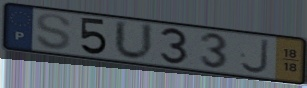3: (157, 26, 191, 67), (199, 32, 231, 71)
5: (79, 17, 108, 56)
J: (238, 37, 270, 76)
S: (34, 12, 74, 52)
U: (113, 18, 156, 63)
